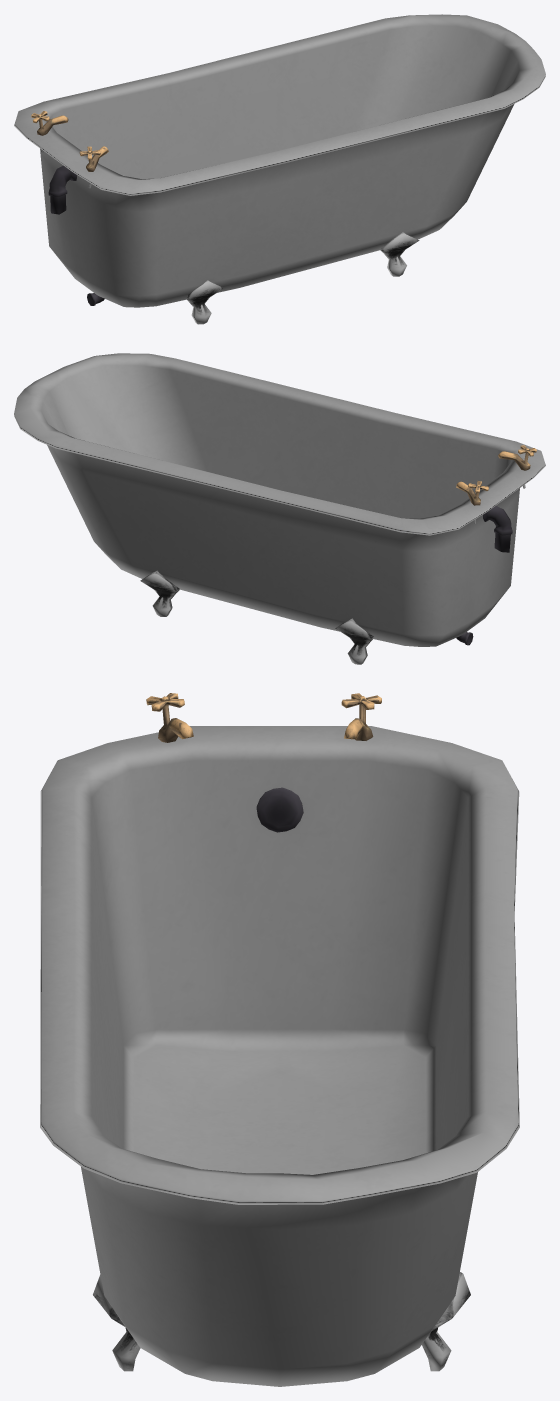
The picture shows the model from 3 angles, top to bottom: view 1: azimuth 30°, elevation 25°; view 2: azimuth 150°, elevation 25°; view 3: azimuth 270°, elevation 25°; orthographic projection. The views are drawn at different scales.
Visible parts, largest first — view 1: abandoned_bath_tub_a9; view 2: abandoned_bath_tub_a9; view 3: abandoned_bath_tub_a9.
Boxes of the visible parts, left/top/right/bottom form: abandoned_bath_tub_a9: left=14, top=14, right=545, bottom=324; abandoned_bath_tub_a9: left=14, top=353, right=545, bottom=664; abandoned_bath_tub_a9: left=40, top=693, right=519, bottom=1386.
Size of the model in its own units: 2 by 0.7614 by 0.8708.
1 material, 1 textured.
